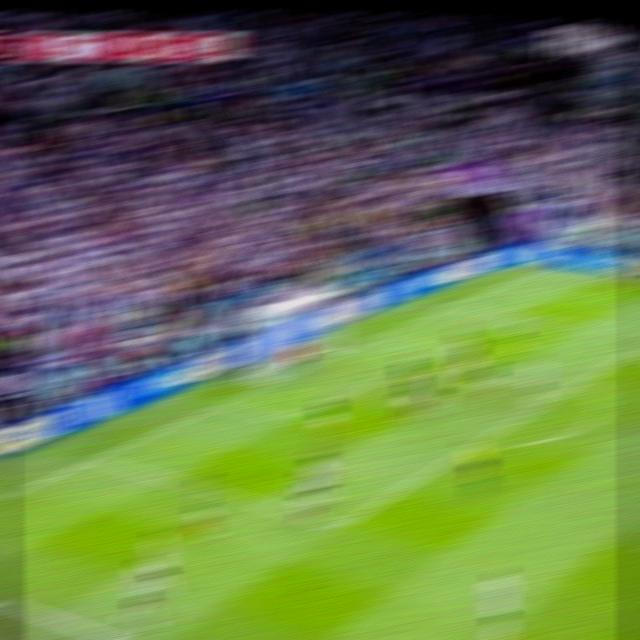bigarea_bottom_inner: (322, 510, 356, 539)
bigarea_bottom_outter: (79, 447, 110, 468)
bigarea_top_outter: (440, 297, 467, 311)
corner: (518, 265, 546, 277)
smallarea_bottom_inner: (275, 408, 308, 429)
smallarea_bottom_outter: (206, 394, 236, 412)
smallarea_top_inner: (426, 339, 456, 357)
smallarea_top_outter: (363, 326, 393, 344)
top_arc_area_intersection: (566, 371, 596, 389)
